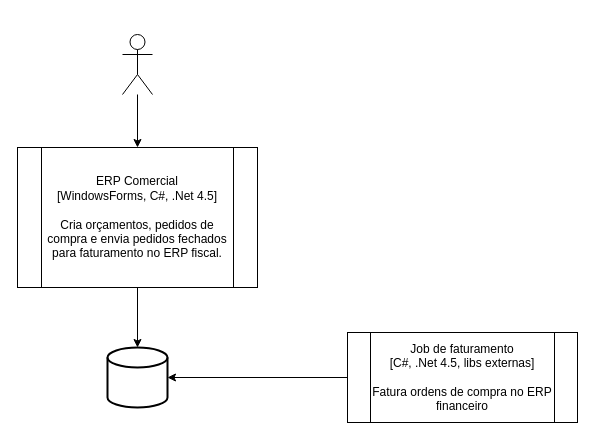
The diagram is 595 pixels wide and 445 high, and some of its shapes have lost their labels. Here are the shapes that lost their labels. From the top down, the centre of each, then its label:
At [137,64]: "Vendedor".
At [137,377]: "Comercial_DB".
